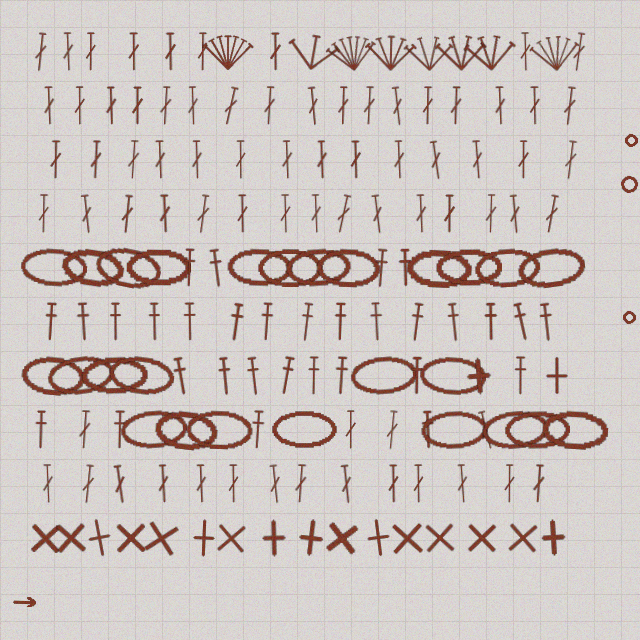chain: (92, 242, 164, 293), (515, 244, 587, 291), (58, 244, 128, 292), (45, 352, 116, 399), (106, 352, 176, 399), (152, 407, 221, 453), (19, 353, 88, 398), (480, 408, 550, 452), (19, 246, 88, 289), (284, 246, 353, 289), (349, 354, 418, 397), (119, 408, 188, 451), (540, 408, 609, 451), (473, 246, 541, 289), (418, 355, 487, 397), (420, 409, 489, 451), (185, 409, 254, 450), (405, 247, 472, 289), (226, 247, 294, 288), (80, 355, 148, 396), (315, 247, 382, 288), (504, 410, 570, 450), (257, 248, 324, 287), (435, 248, 502, 287), (271, 410, 338, 449), (125, 248, 191, 287)
double: (475, 410, 497, 450), (220, 86, 241, 126), (333, 194, 354, 234), (542, 194, 561, 234), (570, 32, 588, 72), (427, 140, 445, 180), (194, 194, 212, 234), (111, 464, 129, 504), (32, 32, 49, 72), (389, 86, 406, 126), (561, 86, 578, 126), (562, 140, 579, 180), (78, 194, 95, 234), (369, 194, 386, 234), (338, 464, 355, 504), (305, 86, 321, 126), (119, 194, 135, 234), (507, 194, 523, 234), (384, 410, 400, 450), (80, 464, 96, 504), (267, 464, 283, 504), (158, 86, 173, 125), (262, 86, 277, 125), (126, 140, 141, 179), (470, 140, 485, 179), (77, 410, 92, 449), (156, 464, 171, 503), (293, 464, 308, 503), (455, 464, 470, 503), (531, 464, 546, 503), (61, 32, 75, 71), (42, 86, 56, 125), (104, 86, 118, 125), (186, 86, 200, 125), (336, 86, 350, 125), (362, 86, 376, 125), (449, 86, 463, 125), (493, 86, 507, 125), (89, 140, 103, 179), (153, 140, 167, 179), (190, 140, 204, 179), (280, 140, 294, 179), (315, 140, 329, 179), (392, 140, 406, 179), (158, 194, 172, 233), (309, 194, 323, 233), (414, 194, 428, 233), (484, 194, 498, 233), (41, 464, 55, 503), (194, 464, 208, 503), (84, 32, 97, 71), (127, 32, 140, 71), (164, 32, 177, 71), (196, 32, 209, 71), (269, 32, 282, 71), (519, 32, 532, 71), (73, 86, 86, 125), (131, 86, 144, 125), (421, 86, 434, 125), (528, 86, 541, 125), (49, 140, 62, 179), (234, 140, 247, 179), (349, 140, 362, 179), (517, 140, 530, 179), (37, 194, 50, 233), (236, 194, 249, 233), (279, 194, 292, 233), (443, 194, 456, 233), (344, 410, 357, 449), (227, 464, 240, 503), (387, 464, 400, 503), (412, 464, 425, 503), (503, 464, 516, 503)
fan: (285, 28, 342, 75), (323, 29, 380, 75), (528, 30, 582, 74), (463, 31, 517, 73), (365, 32, 417, 72), (403, 32, 455, 72), (435, 32, 487, 72), (202, 32, 254, 71)
half_double: (510, 301, 533, 342), (276, 355, 297, 396), (170, 356, 191, 396), (226, 302, 246, 342), (207, 248, 226, 288), (297, 302, 316, 342), (407, 302, 426, 342), (537, 302, 556, 342), (244, 356, 263, 396), (372, 248, 390, 288), (445, 302, 463, 342), (216, 356, 234, 396), (42, 302, 59, 341), (75, 302, 92, 341), (258, 302, 275, 341), (368, 302, 385, 341), (333, 356, 350, 395), (249, 410, 266, 449), (181, 248, 197, 287), (397, 248, 413, 287), (332, 302, 348, 341), (33, 410, 49, 449), (420, 410, 436, 449), (108, 302, 123, 341), (147, 302, 162, 341), (182, 302, 197, 341), (483, 302, 498, 341), (306, 356, 321, 395), (409, 356, 424, 395), (513, 356, 528, 395), (112, 410, 127, 449)
noise: (619, 174, 640, 195), (12, 597, 38, 607), (621, 309, 637, 325), (624, 133, 639, 148)
single: (138, 515, 184, 561), (77, 515, 122, 560), (289, 516, 332, 559), (320, 516, 363, 559), (357, 516, 400, 559), (458, 355, 500, 397), (210, 517, 252, 559), (50, 517, 91, 558), (419, 517, 460, 558), (502, 517, 543, 558), (533, 517, 574, 558), (25, 518, 65, 558), (184, 518, 224, 558), (254, 518, 294, 558), (387, 518, 427, 558), (537, 356, 576, 395), (111, 518, 150, 557), (462, 518, 501, 557)
